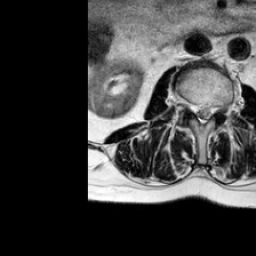CCS_normal: (199, 93, 206, 130)
LFS_normal: (214, 93, 223, 119)
LLS_normal: (206, 94, 214, 122)
RFS_normal: (185, 92, 193, 119)
RLS_normal: (193, 94, 199, 124)
